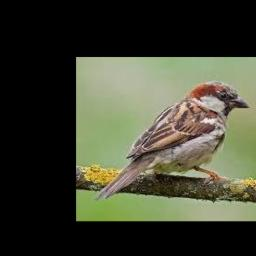Sparrow: (95, 81, 250, 200)
